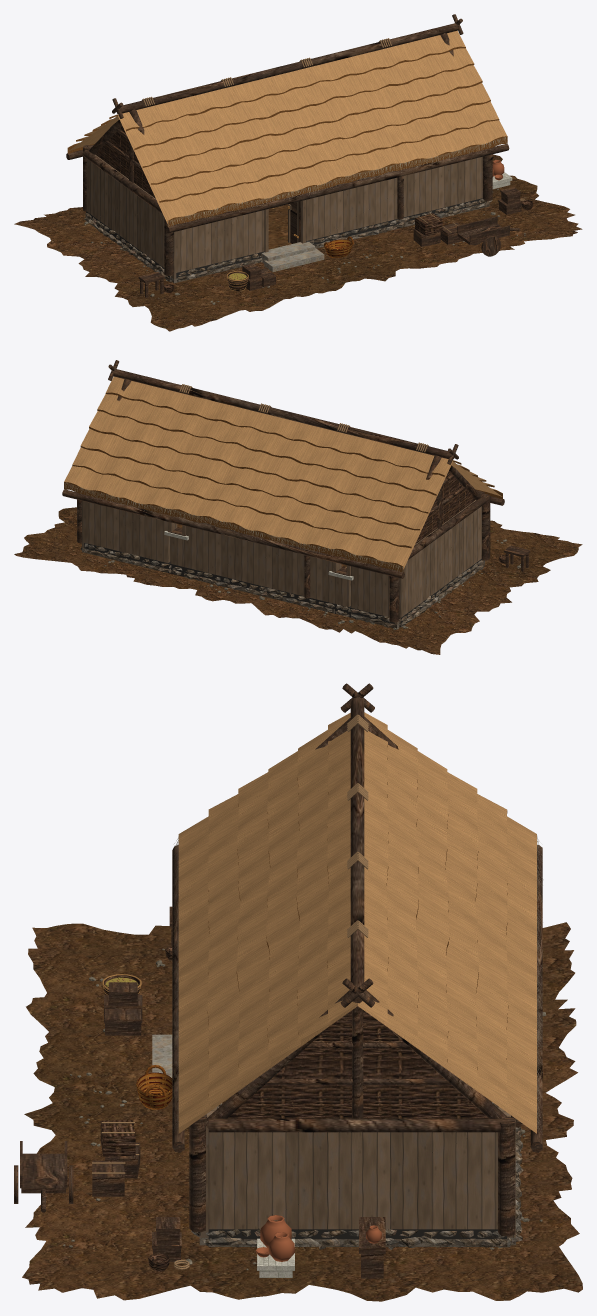
The model's file is warehouse.glb.
3 views of the same model, one above another, from view 1: azimuth 30°, elevation 25°; view 2: azimuth 150°, elevation 25°; view 3: azimuth 270°, elevation 25° (orthographic). The views are drawn at different scales.
Parts seen in each view (by area): view 1: part_17, part_1, part_5, part_8, part_18, part_4, part_10, part_19, part_21, part_20, part_0, part_6 (+1 smaller); view 2: part_17, part_5, part_1, part_8, part_18, part_4, part_20, part_10, part_19; view 3: part_17, part_1, part_8, part_5, part_10, part_4, part_12, part_20, part_11, part_16, part_19, part_7 (+1 smaller).
Boxes of the visible parts, x1,y1,x2,y2 form: part_17: (68,30,507,223); part_1: (14,154,582,331); part_5: (86,154,489,278); part_8: (66,14,522,297); part_18: (67,46,507,226); part_4: (84,198,492,283); part_10: (95,126,532,292); part_19: (168,137,507,226); part_21: (261,241,324,271); part_20: (86,198,486,281); part_0: (268,204,291,249); part_6: (264,200,305,252); part_17: (64,376,502,569); part_5: (82,500,481,624); part_1: (14,507,582,654); part_8: (62,360,530,622); part_18: (64,392,502,572); part_4: (81,543,484,628); part_20: (84,543,484,627); part_10: (342,471,509,568); part_19: (64,482,402,572); part_17: (178,712,536,1133); part_1: (22,922,582,1301); part_8: (14,683,542,1278); part_5: (200,1107,515,1237); part_10: (100,946,488,1271); part_4: (191,1102,523,1249); part_12: (255,1215,381,1261); part_20: (200,1107,507,1239); part_11: (92,714,368,1269); part_16: (136,1065,172,1109); part_19: (172,836,543,1134); part_7: (257,1238,294,1277).
Bounding box in the file's own units: 10.23 × 3.58 × 6.47.
Materials: 22 (14 with a texture image).
